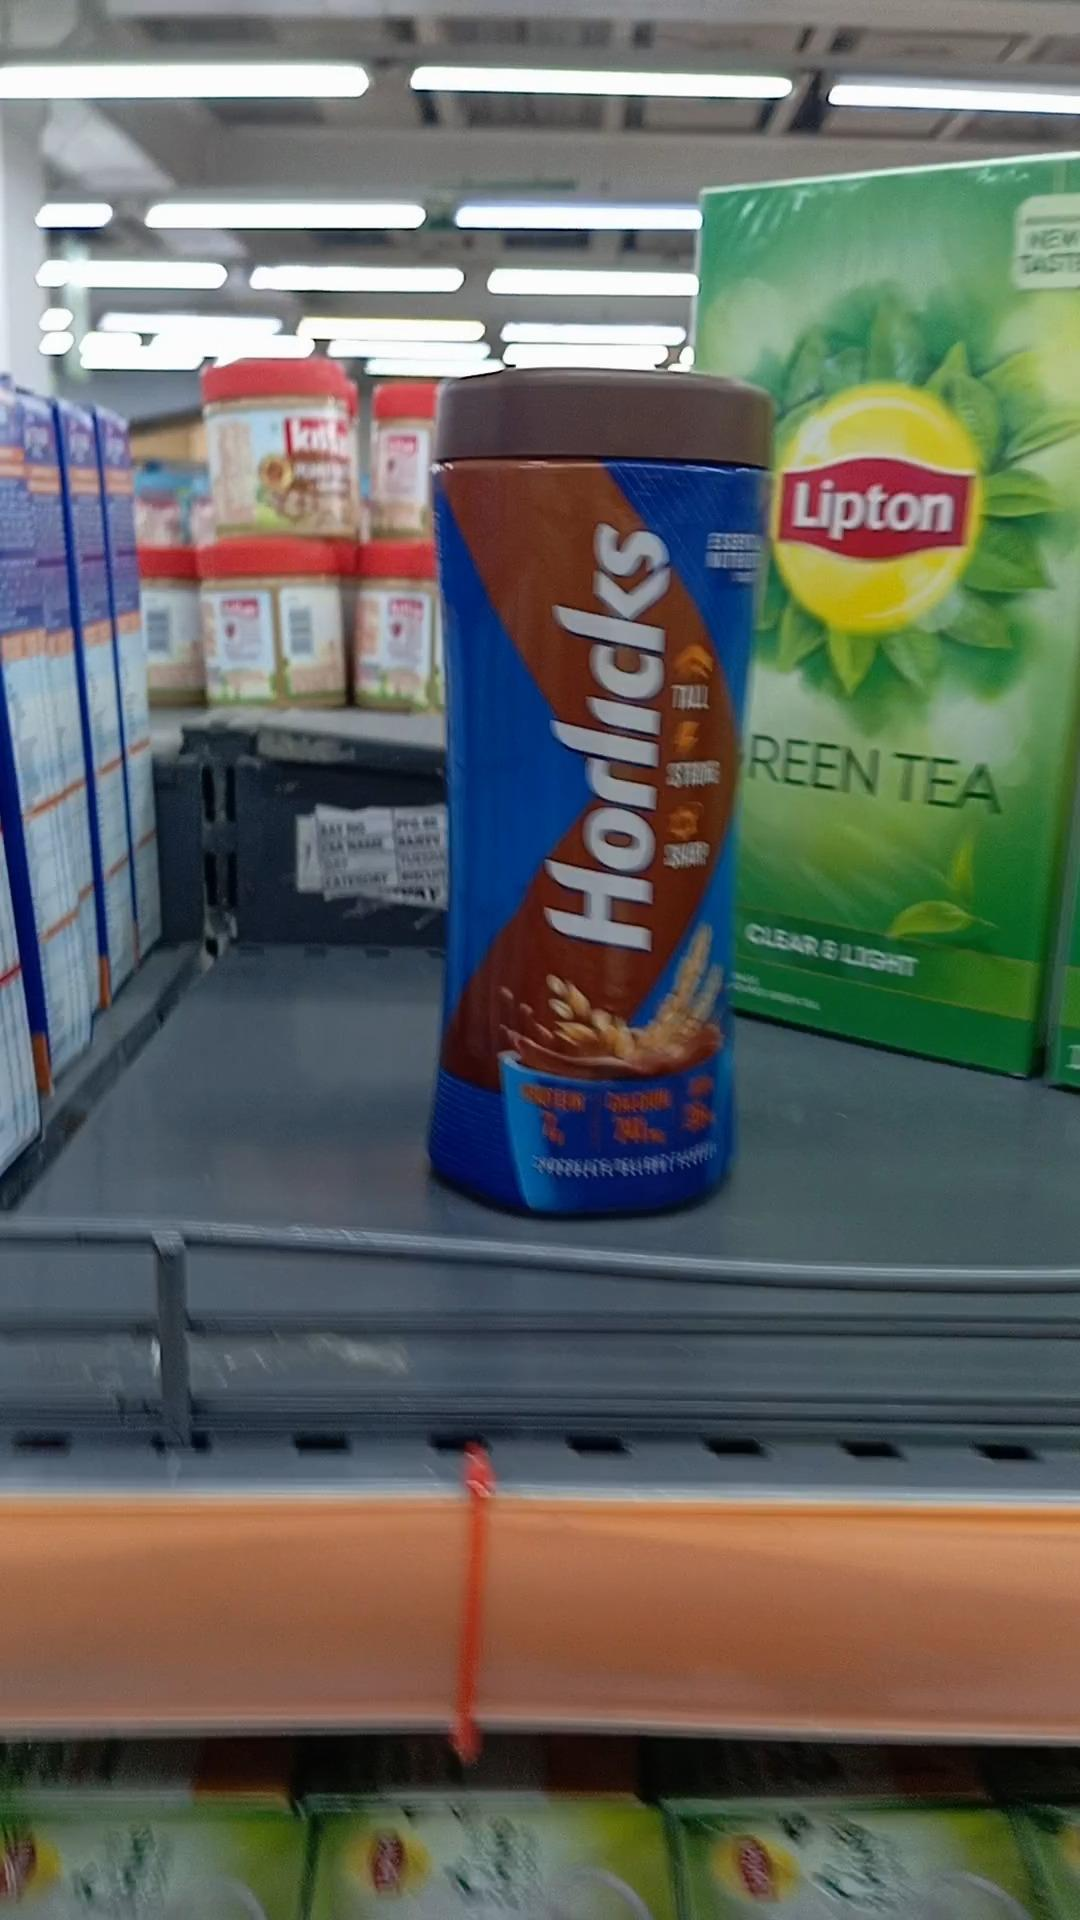HORLICK_CHOCOLATE_500_G_JAR: (421, 357, 742, 1218)
